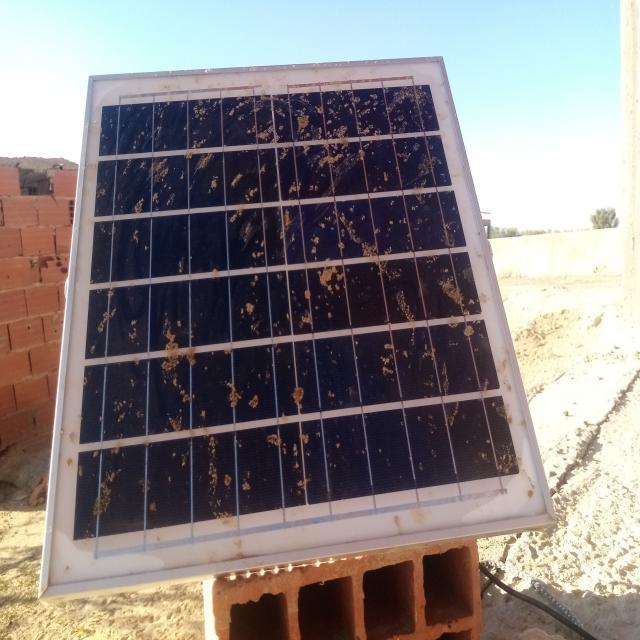faulty: (40, 58, 555, 590)
